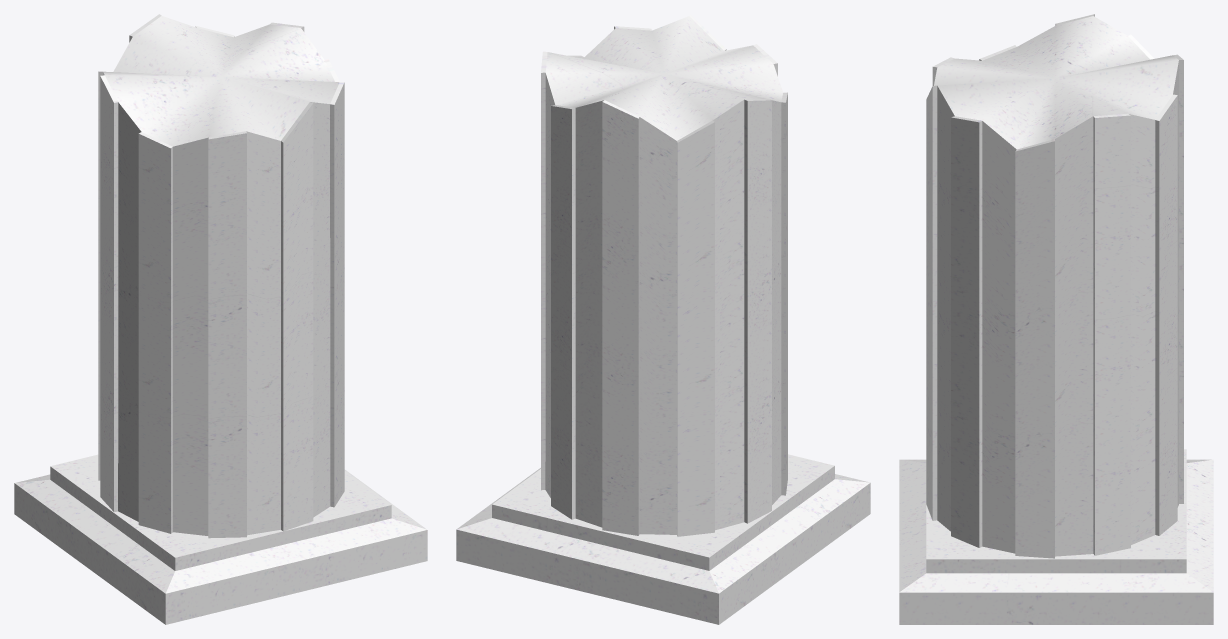
The model's file is brokenpillar.fbx.
3 renders of one model, left to right at view 1: azimuth 30°, elevation 25°; view 2: azimuth 150°, elevation 25°; view 3: azimuth 270°, elevation 25°, orthographic. The views are drawn at different scales.
Visible parts, largest first — view 1: pCylinder1, pCube1; view 2: pCylinder1, pCube1; view 3: pCylinder1, pCube1.
Part boxes in pixels (box(x1,y1,x2,y2)): pCylinder1: box(98, 14, 344, 538); pCube1: box(14, 454, 427, 624); pCylinder1: box(541, 14, 787, 536); pCube1: box(456, 454, 870, 624); pCylinder1: box(926, 14, 1183, 558); pCube1: box(899, 449, 1213, 624).
Size of the model in its own units: 4 by 6.99 by 4.
Materials: 1 (1 with a texture image).
